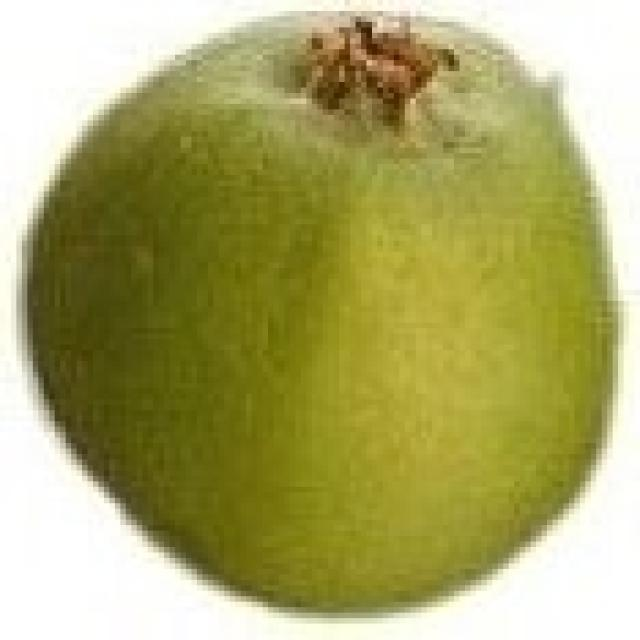50-_ripeness: (12, 11, 621, 610)
